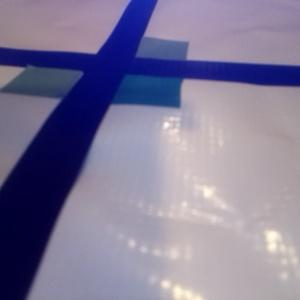bottom_left: (1, 55, 114, 98)
bottom_right: (82, 59, 184, 107)
top_right: (107, 37, 189, 74)
